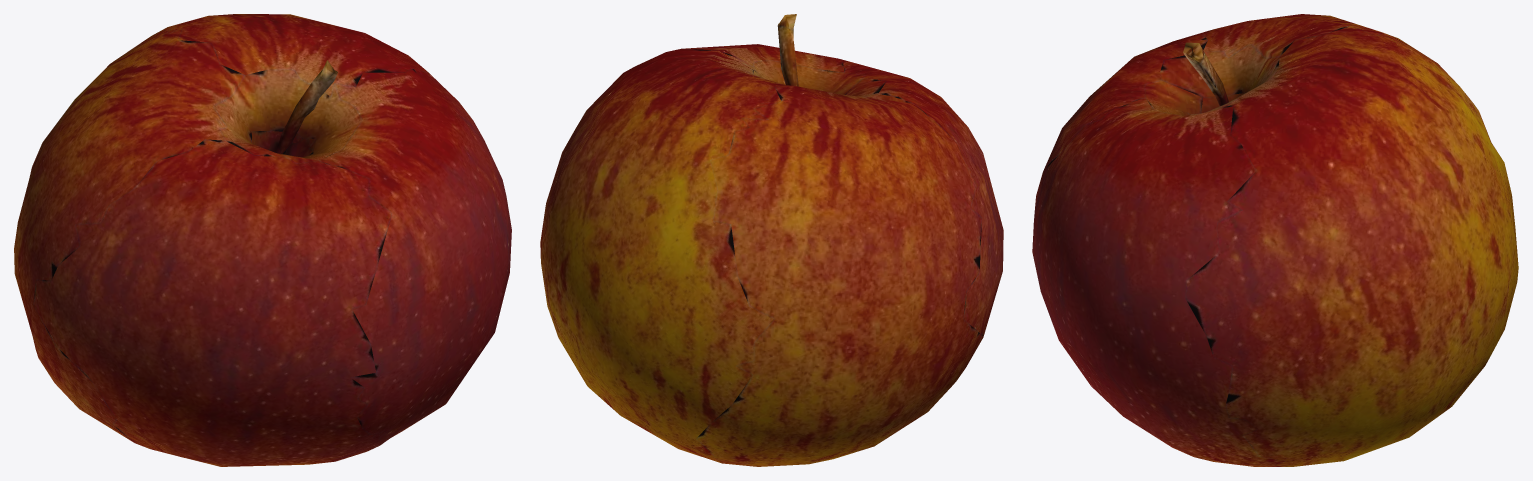
The model's file is apple-0-far.glb.
3 renders of one model, left to right at view 1: azimuth 30°, elevation 25°; view 2: azimuth 150°, elevation 25°; view 3: azimuth 270°, elevation 25°, orthographic. The views are drawn at different scales.
Visible parts, largest first — view 1: food_apple_01; view 2: food_apple_01; view 3: food_apple_01.
Part boxes in pixels (x1,y1,x2,y2): food_apple_01: (14, 14, 511, 466); food_apple_01: (540, 14, 1003, 466); food_apple_01: (1032, 14, 1518, 466).
Size of the model in its own units: 0.1143 by 0.1007 by 0.113.
1 material, 1 textured.
